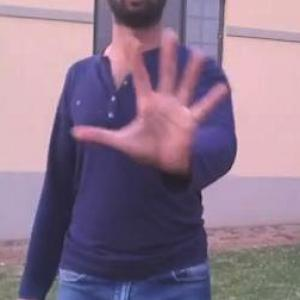follow_hand: (69, 18, 232, 186)
